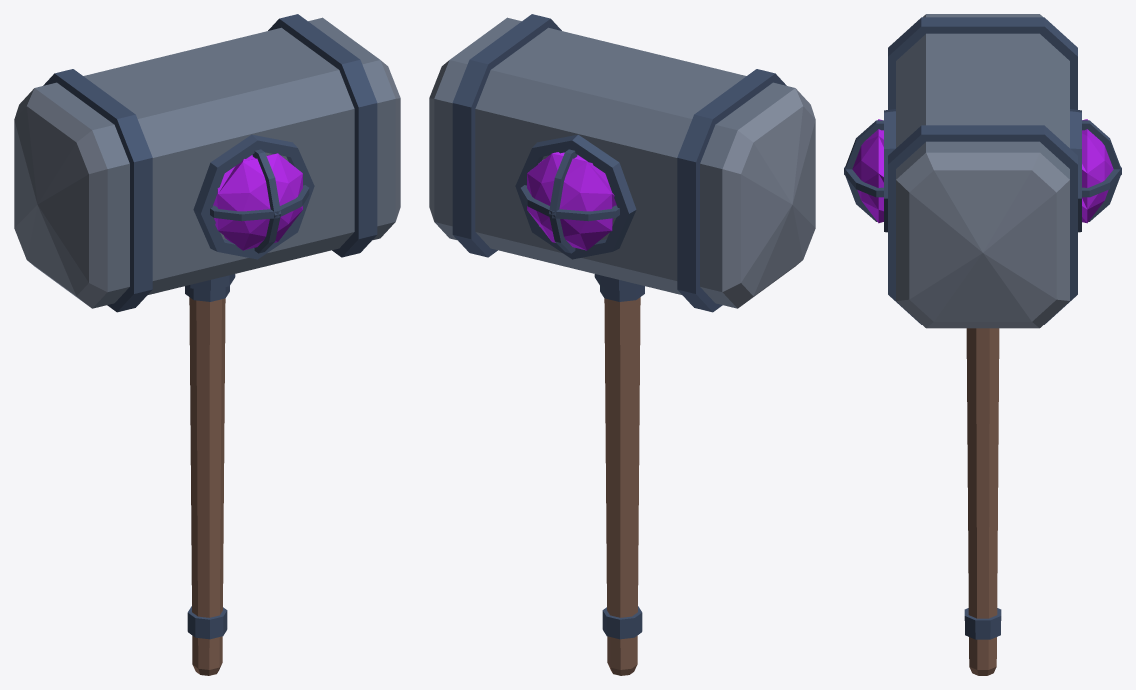
Rendered from Hammer.glb.
The picture shows the model from 3 angles, left to right: view 1: azimuth 30°, elevation 25°; view 2: azimuth 150°, elevation 25°; view 3: azimuth 270°, elevation 25°; orthographic projection.
Visible parts, largest first — view 1: body-metal, body-matte, core-crystal; view 2: body-metal, body-matte, core-crystal; view 3: body-metal, body-matte, core-crystal.
Part boxes in pixels (<box>): body-metal: <box>14,14,400,639</box>; body-matte: <box>189,297,225,675</box>; core-crystal: <box>213,153,302,250</box>; body-metal: <box>429,14,815,639</box>; body-matte: <box>604,297,640,675</box>; core-crystal: <box>527,152,616,250</box>; body-metal: <box>844,14,1121,639</box>; body-matte: <box>966,328,999,675</box>; core-crystal: <box>852,119,1113,223</box>.
Bounding box in the file's own units: 0.578 × 0.982 × 0.415.
